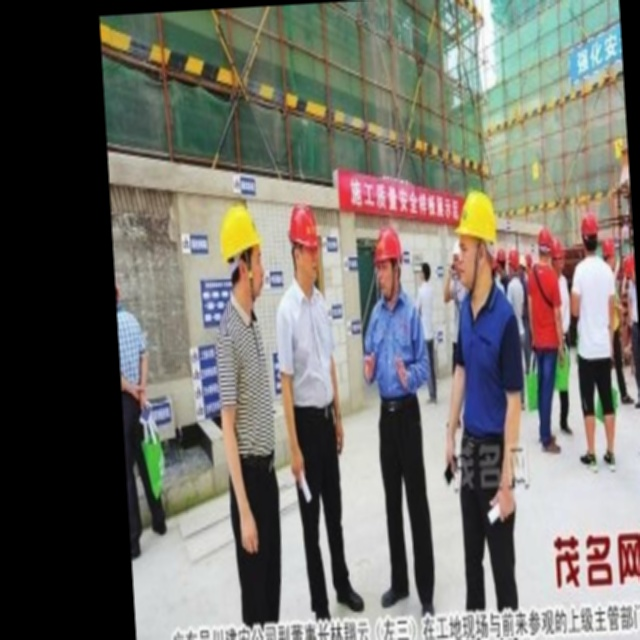Con_Casco: (220, 203, 264, 298), (287, 204, 321, 285), (373, 226, 406, 293)
